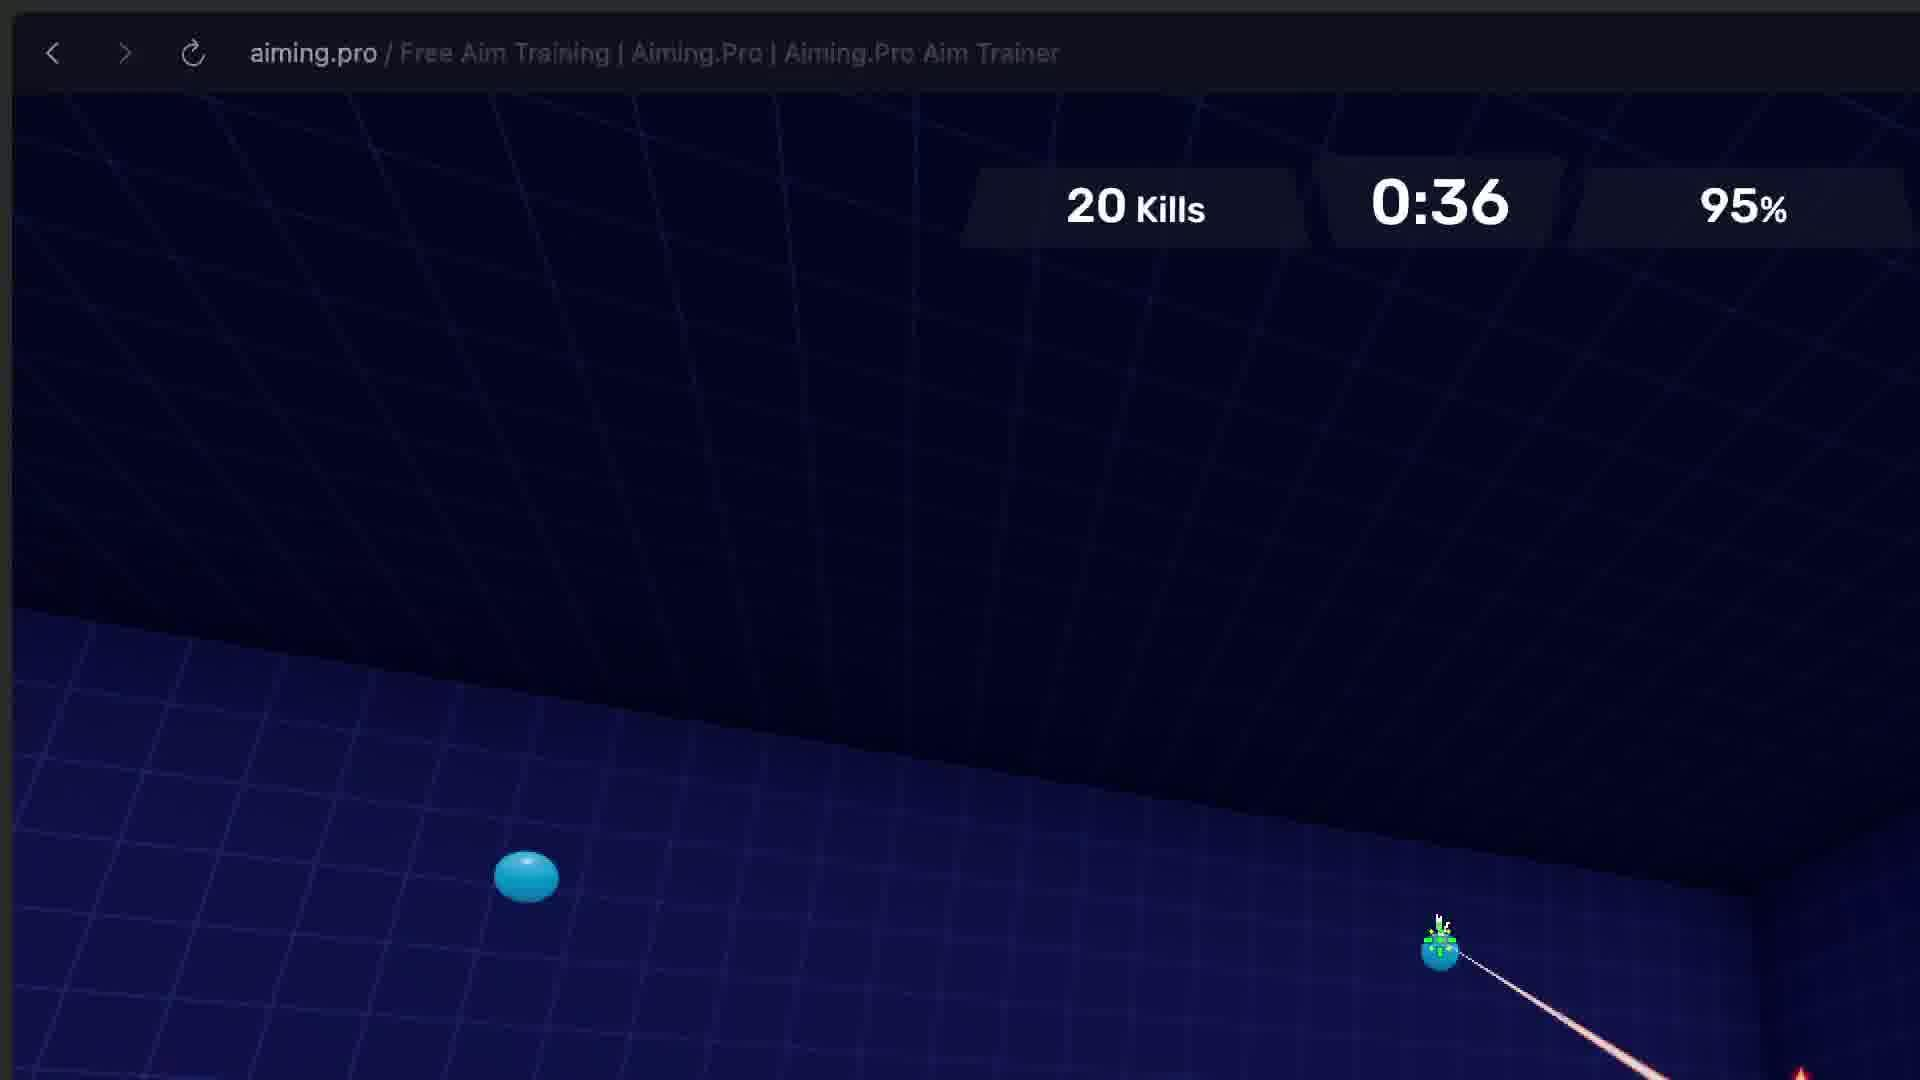target: (495, 851, 558, 902), (1414, 928, 1461, 975)
